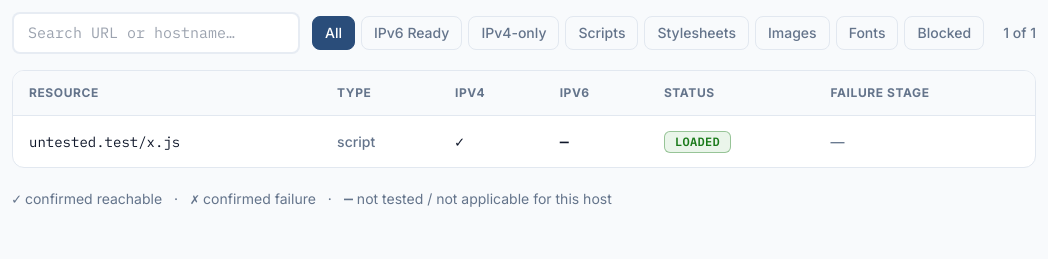
it: ResourceTable › a resource whose IPv6 was simply never tested is NOT counted as IPv4-only
What coordinates should you click on to do the following:
click the button "IPv4-only"
I would click on:
 (514, 33)
Its box is x1=468 y1=16 x2=560 y2=50.
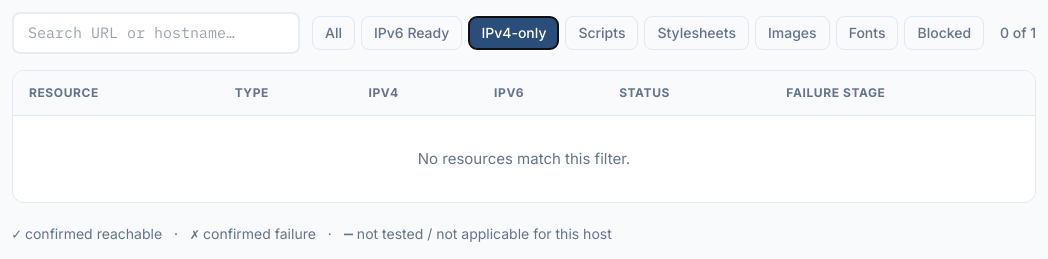
Check: the text "No resources match this filter." is shown, box x1=13 y1=116 x2=1035 y2=202
